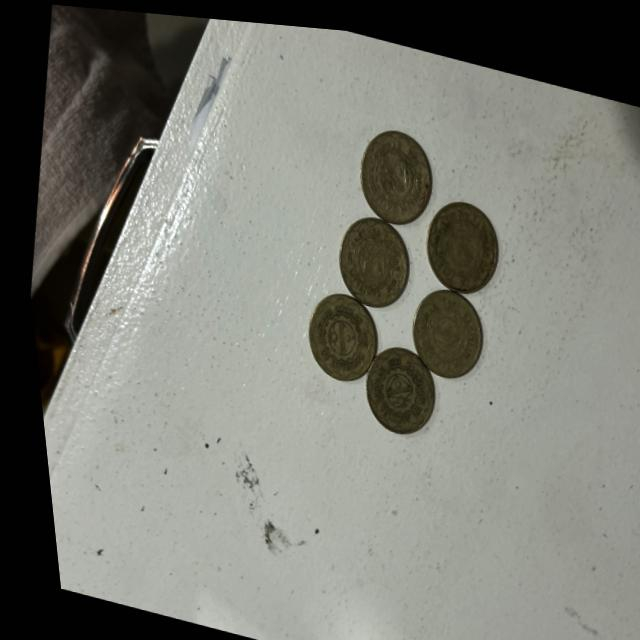5_Old_Back: (341, 113, 444, 231), (321, 201, 419, 314), (283, 281, 379, 385), (413, 191, 503, 294), (398, 277, 484, 380), (349, 333, 433, 434)
